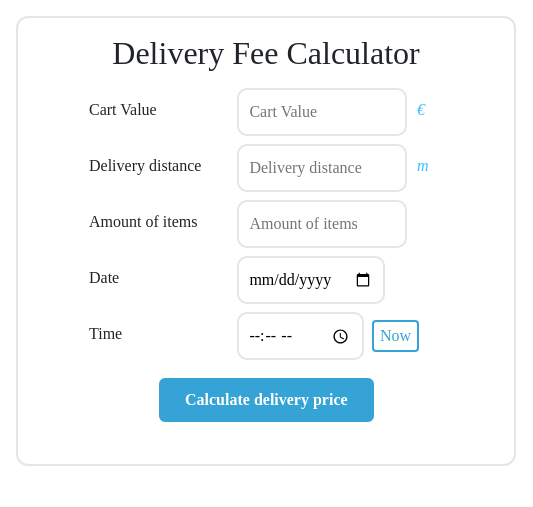
it: DeliveryFeeCalculator component › Round to two decimals
The image size is (533, 507).
Type "6.3589" into the number field with test id "input-group" showing "Cart Value" at (322, 112), box [237,88,407,136]
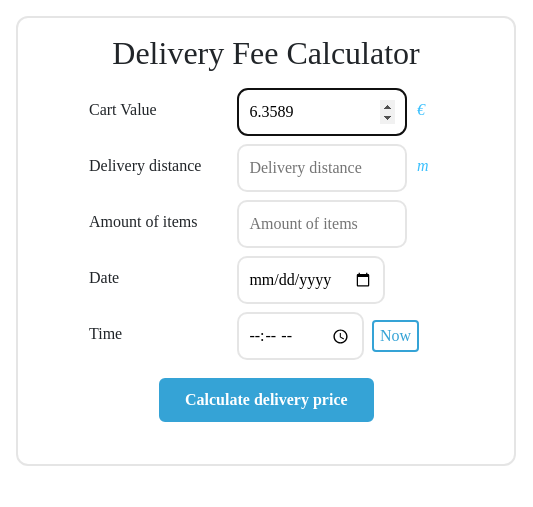
Type "1001" into the number field with test id "input-group" showing "Delivery distance" at (322, 168), box [237,144,407,192]
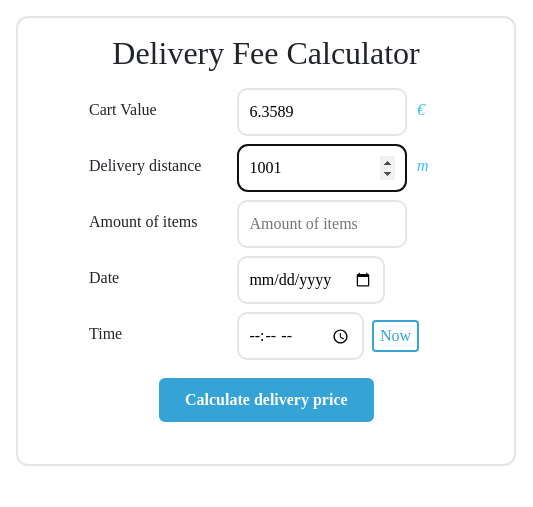
Type "13" into the number field with test id "input-group" showing "Amount of items" at (322, 224), box [237,200,407,248]
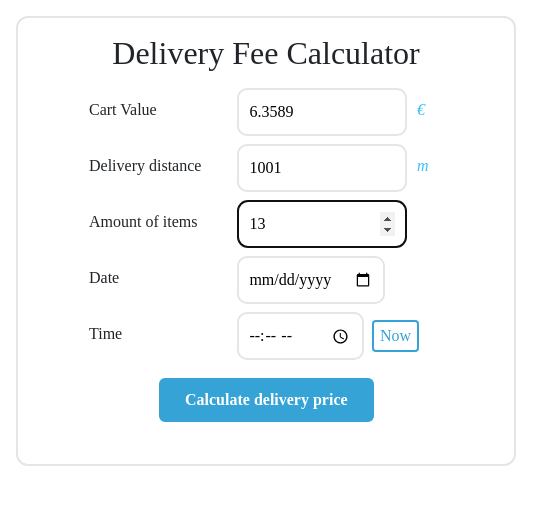
Type "2023-01-13" into the date field with test id "input-group" showing "Date" at (311, 280), box [237,256,385,304]
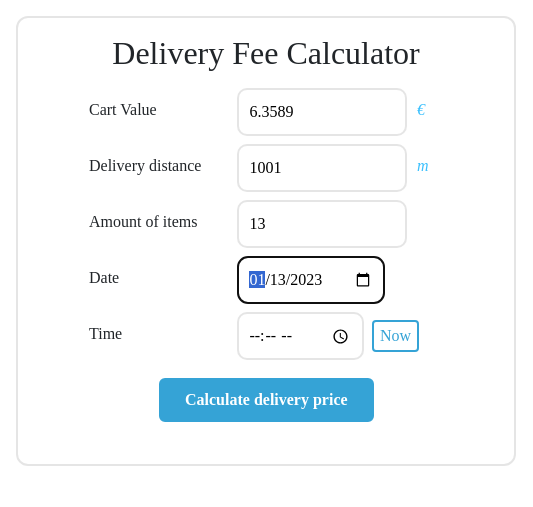
Type "15:04" into the time field with test id "input-group" showing "Time" at (301, 336), box [237,312,364,360]
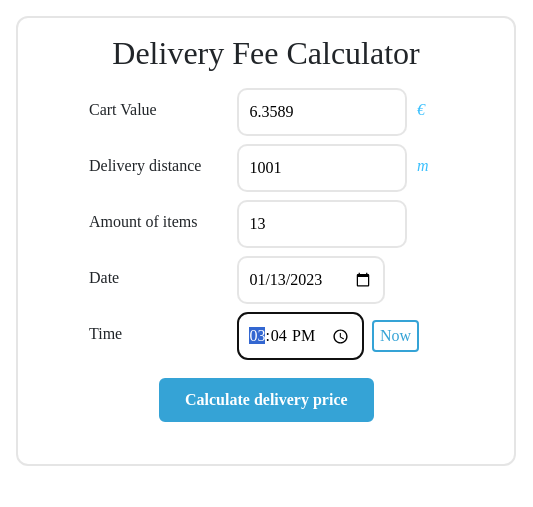
Click the button "Calculate delivery price" at (266, 400), box [159,378,373,422]
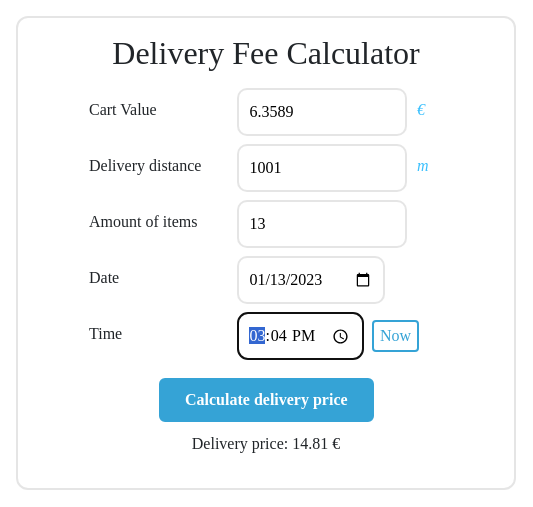
Check: the text with test id "result" shows "14.81 €", box [192,435,340,452]
